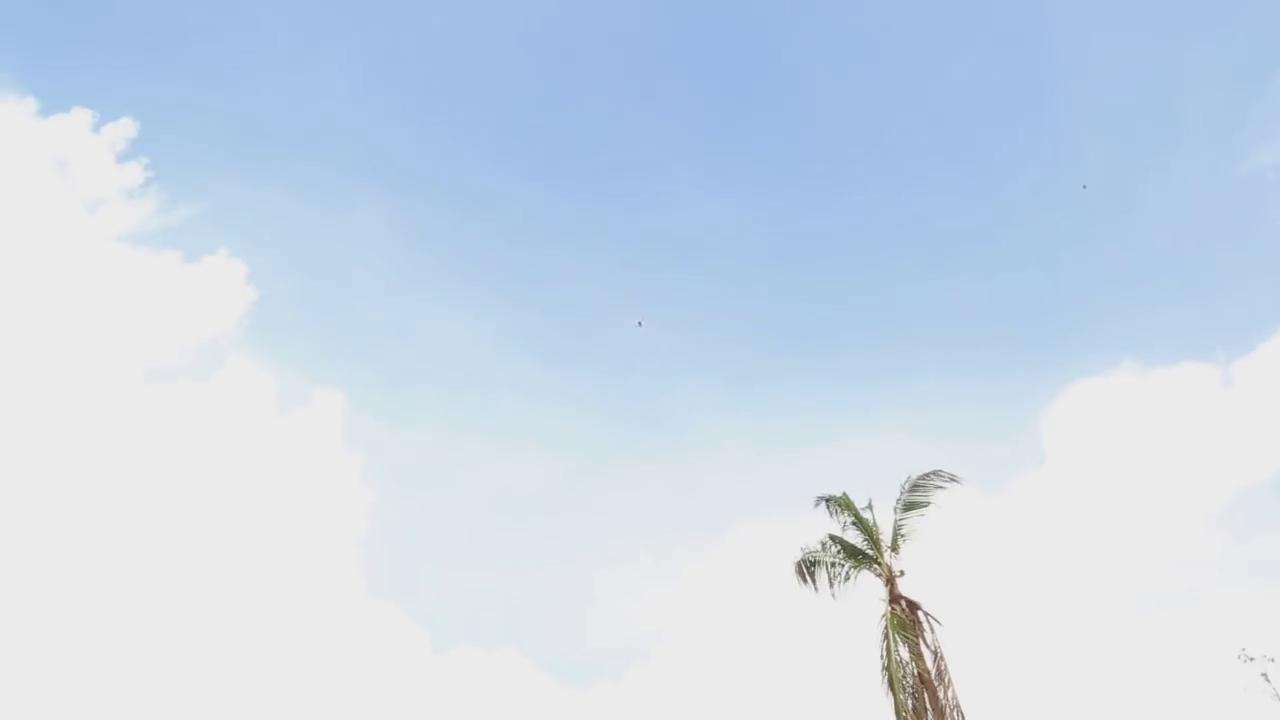drone: (628, 315, 652, 332)
